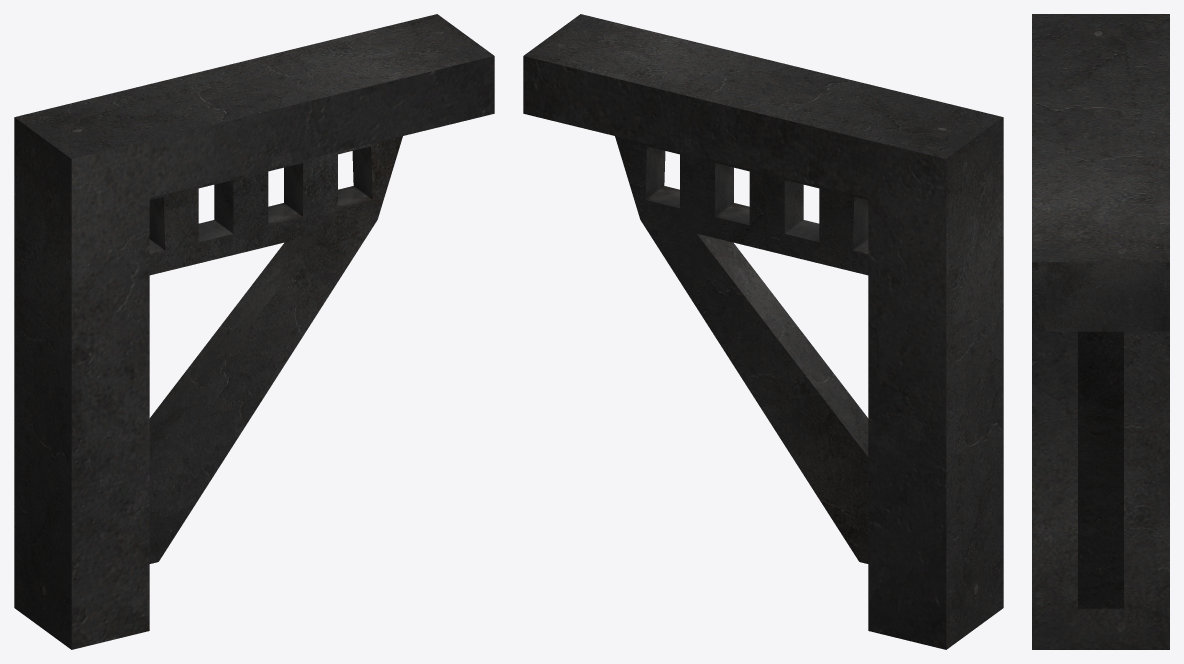
The model's file is steun.obj.
The picture shows the model from 3 angles, left to right: view 1: azimuth 30°, elevation 25°; view 2: azimuth 150°, elevation 25°; view 3: azimuth 270°, elevation 25°; orthographic projection. The views are drawn at different scales.
Visible parts, largest first — view 1: Group; view 2: Group; view 3: Group.
Boxes of the visible parts, bbox=[...] form: Group: bbox=[14, 14, 494, 649]; Group: bbox=[523, 14, 1003, 649]; Group: bbox=[1032, 14, 1169, 649].
Size of the model in its own units: 64.05 by 71.01 by 15.04.
